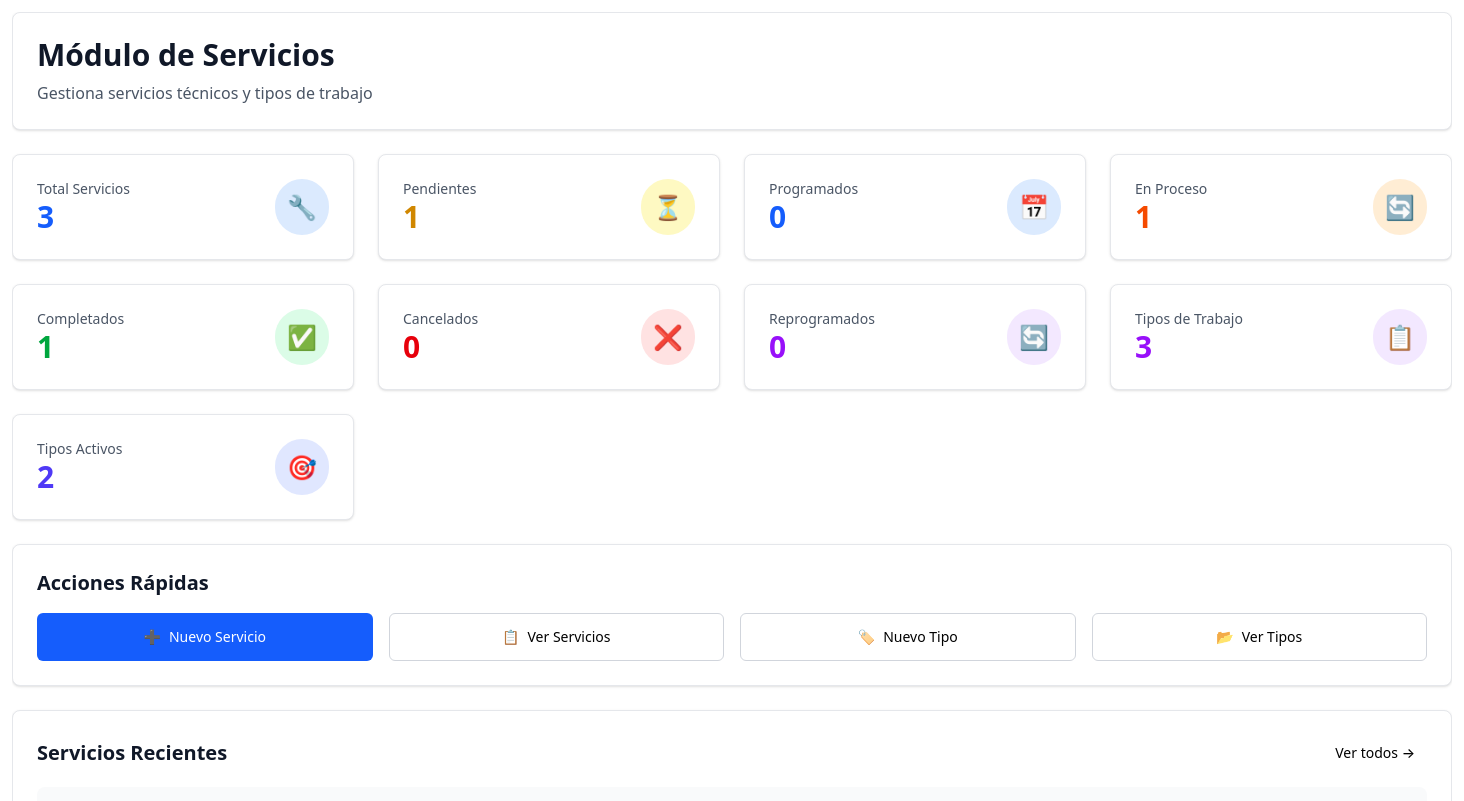
Scenario: ServicioDashboard › Navegación entre vistas › debe cambiar a vista de servicios al hacer click en "Ver Servicios"
This screenshot has width=1464, height=801.
Step 1. Click the text "Ver Servicios" → (569, 637), box [528, 627, 610, 647]
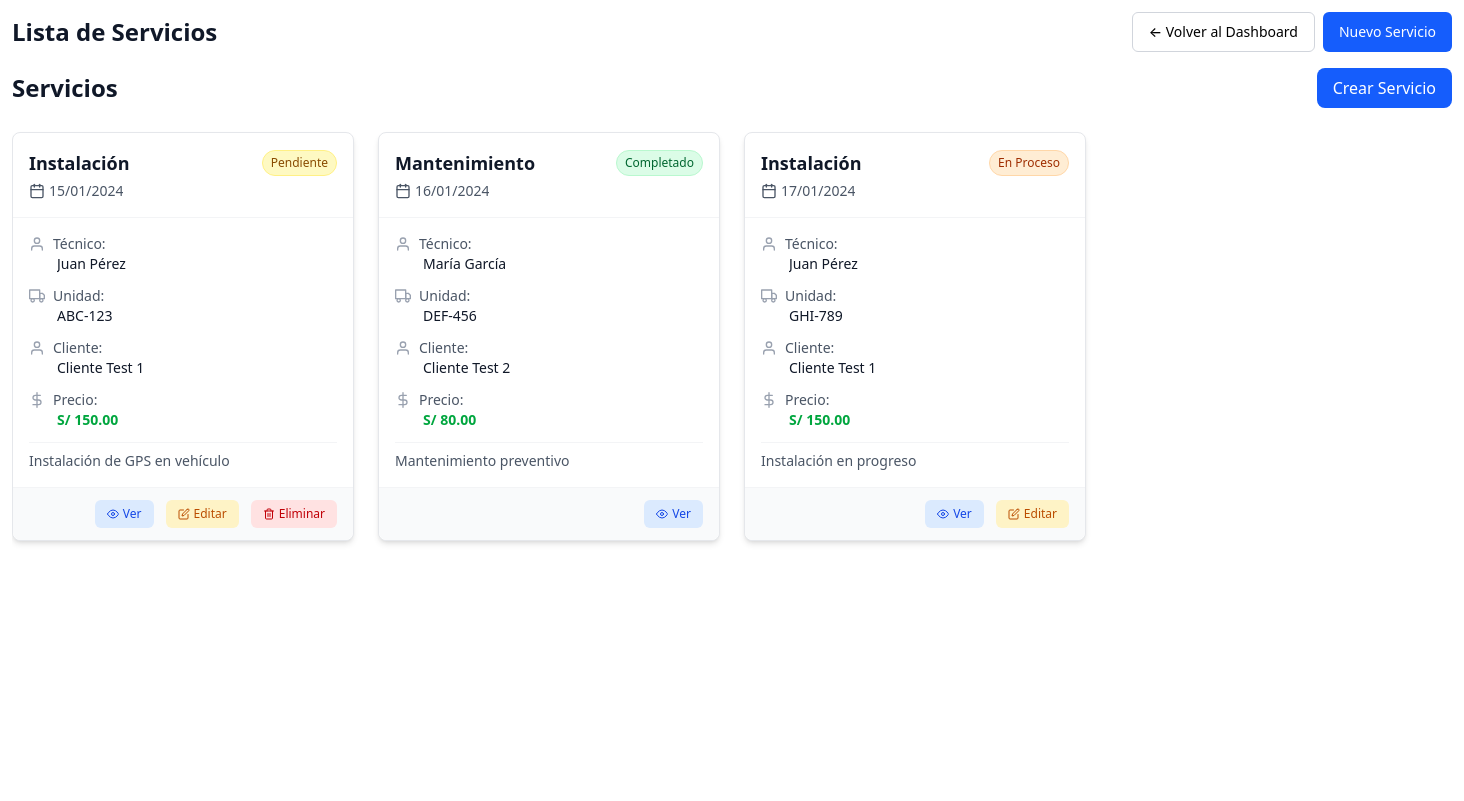
Result: the heading "Lista de Servicios" is shown at [12, 16, 217, 48]
